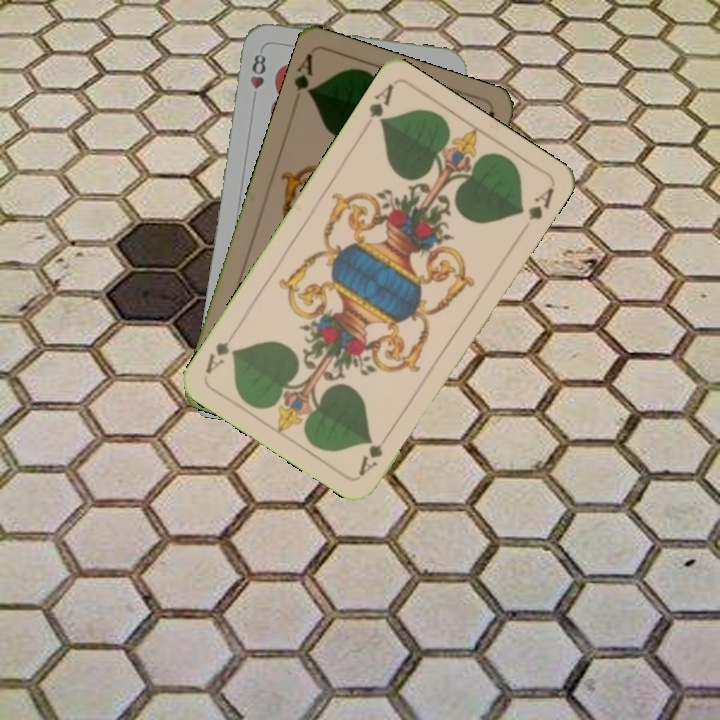GA: (354, 426, 394, 479), (364, 80, 396, 128), (290, 50, 317, 100)
H8: (246, 50, 269, 105)
